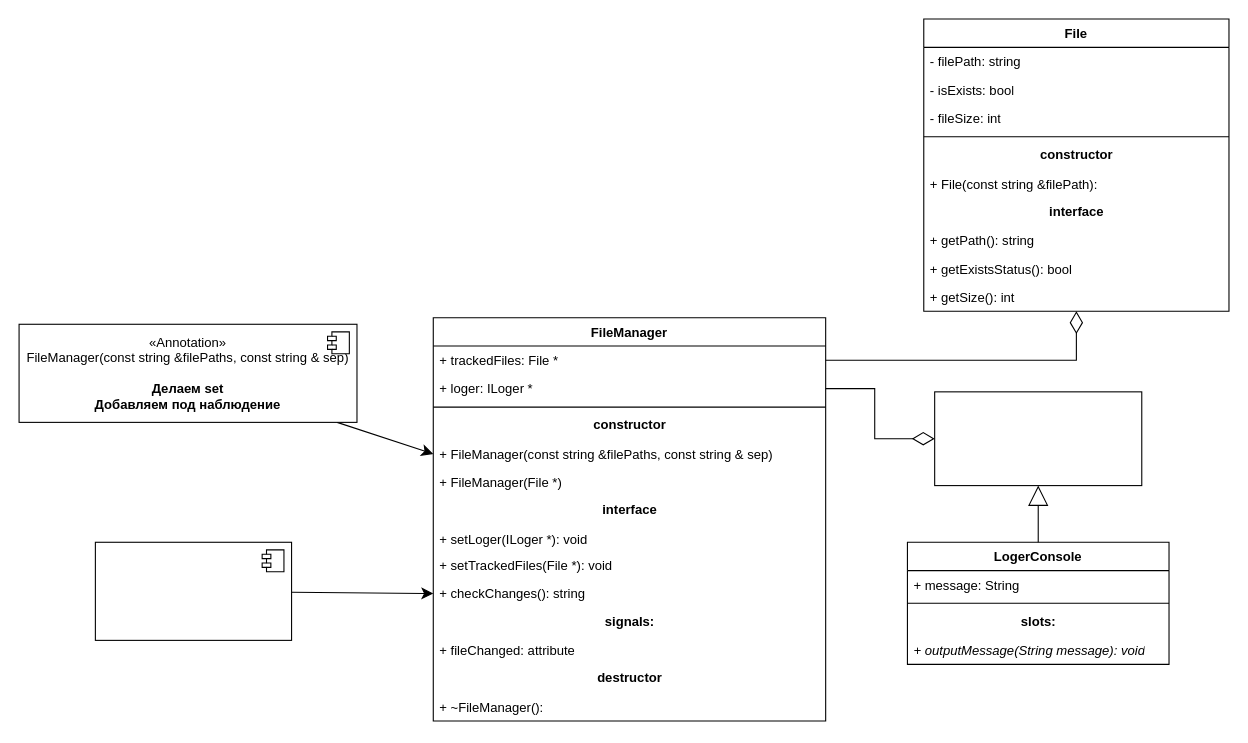
This 1248x743 diagram has some shape labels left out. Each missing label, with the centre of its shape:
<<Interface> ILoger + outputMessage(message): void: the point at 1038,438
«Annotation» checkChanges() Создаем объект QFileInfo Сравниваем состояния: the point at 193,590
